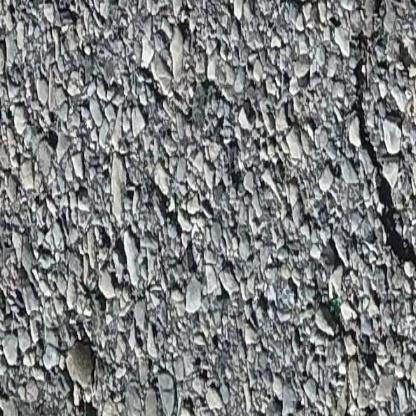Cracks: (329, 0, 416, 409)
